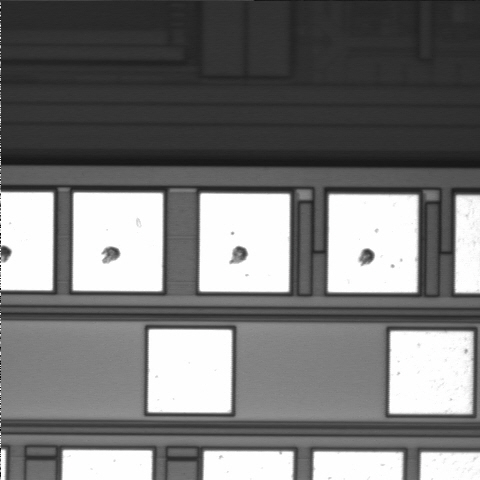pad: (199, 193, 290, 292), (73, 193, 163, 291), (328, 194, 418, 292), (148, 329, 232, 413), (389, 331, 473, 414)
